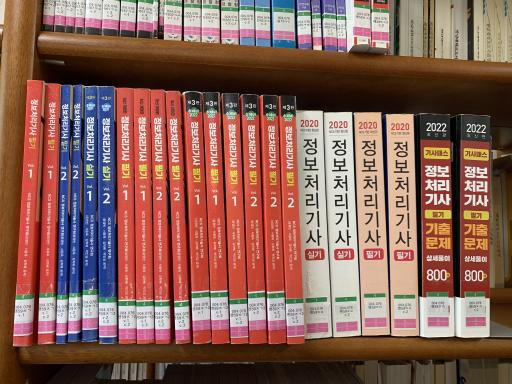book-spine: (324, 112, 362, 337), (297, 111, 332, 339), (355, 113, 390, 336), (420, 114, 455, 336), (13, 80, 42, 346), (387, 114, 418, 336), (460, 114, 490, 337), (185, 91, 211, 344), (204, 92, 230, 343), (222, 93, 248, 344), (165, 91, 190, 344), (280, 96, 305, 344), (37, 84, 60, 344), (242, 95, 266, 344), (263, 95, 286, 344), (133, 88, 154, 343), (116, 88, 136, 343), (98, 86, 116, 344), (151, 90, 169, 343), (68, 85, 82, 342), (83, 86, 97, 343), (57, 86, 70, 344)
